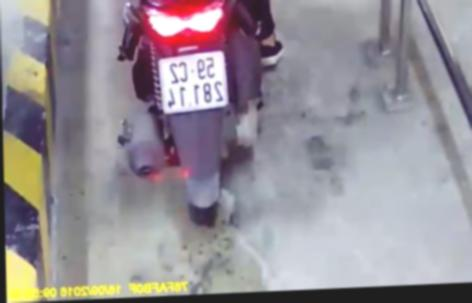License_Plate: (154, 46, 236, 118)
